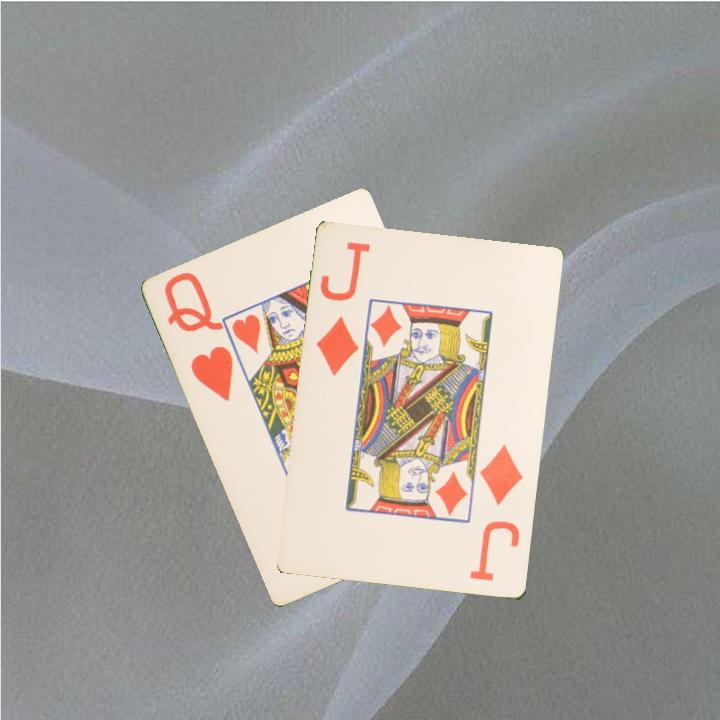Jd: (312, 239, 374, 380), (466, 441, 526, 585)
Qh: (161, 268, 237, 405)
